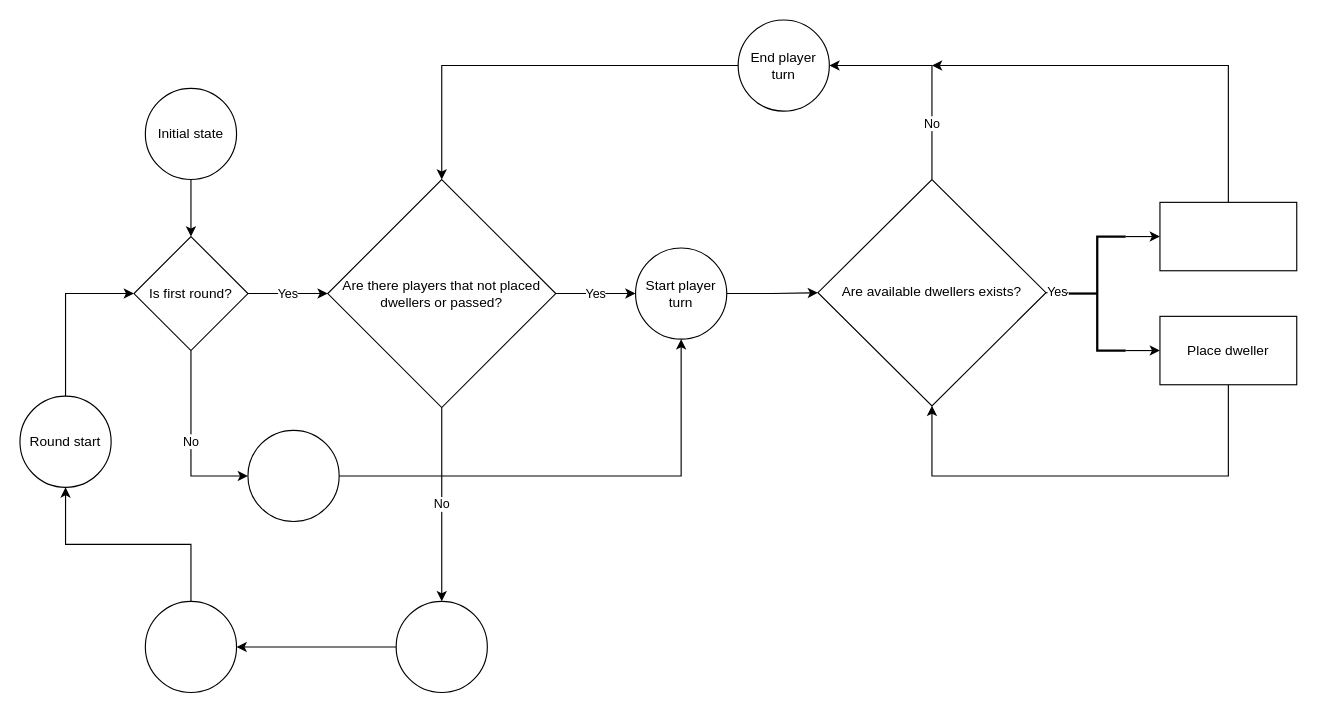
Image size: 1317x713. Some labels were removed from this diagram. The shapes that lost their labels are listed below. From the top down, each one's centre as x and y in pixels, then its label:
At (1228,236): "Pass".
At (293,475): "Spawn threats".
At (190,646): "Round end".
At (441,646): "Recall dwellers".
